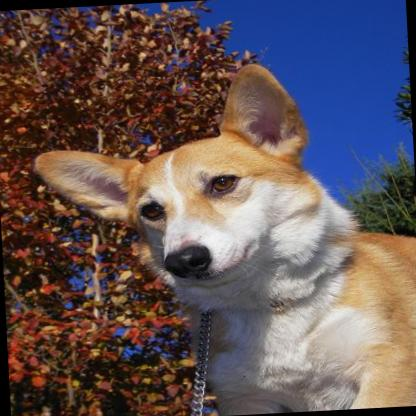Pembroke: (26, 53, 416, 416)
